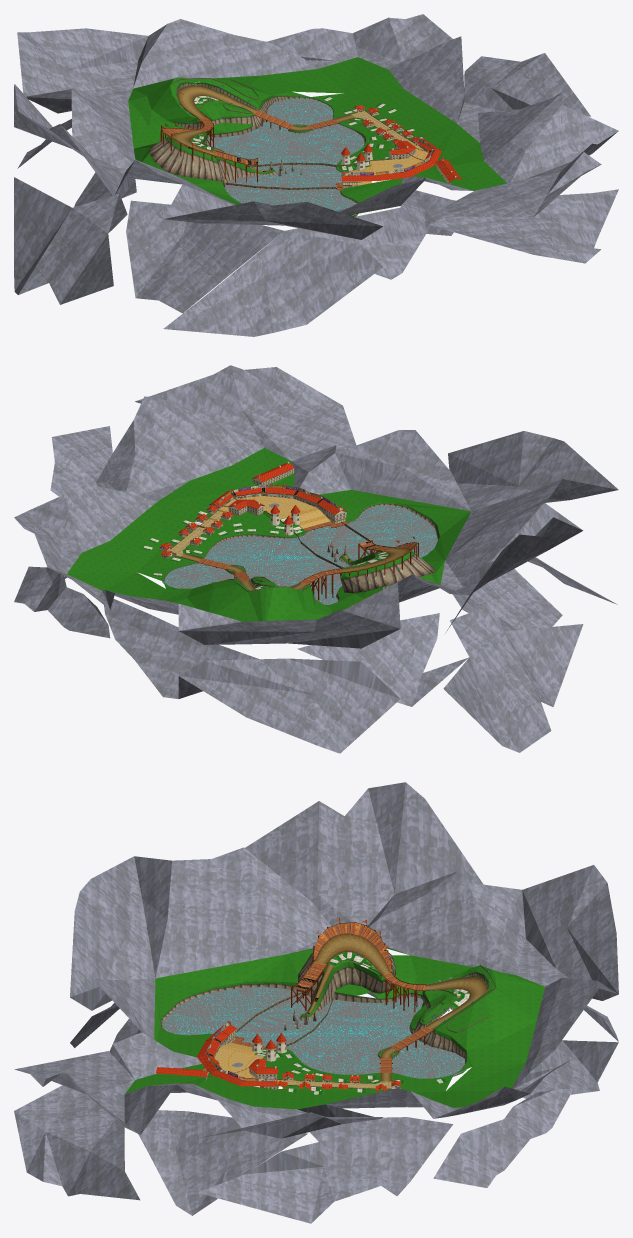
File: main.glb
The picture shows the model from 3 angles, top to bottom: view 1: azimuth 30°, elevation 25°; view 2: azimuth 150°, elevation 25°; view 3: azimuth 270°, elevation 25°; orthographic projection. The views are drawn at different scales.
Visible parts, largest first — view 1: SketchUp.1074, SketchUp.236, SketchUp.1077, SketchUp.1068, SketchUp.1079, SketchUp.460, SketchUp.1076, SketchUp.1071, SketchUp, SketchUp.773, SketchUp.428, SketchUp.776 (+1 smaller); view 2: SketchUp.1074, SketchUp.236, SketchUp.1070, SketchUp.1079, SketchUp.460, SketchUp.1073, SketchUp.1069, SketchUp.1068, SketchUp.1067, SketchUp.773, SketchUp, SketchUp.776 (+1 smaller); view 3: SketchUp.1074, SketchUp.236, SketchUp.460, SketchUp.1076, SketchUp.1078, SketchUp.1075, SketchUp.1067, SketchUp.1072, SketchUp.773, SketchUp, SketchUp.1073, SketchUp.430 (+3 smaller).
Part boxes in pixels (x1,y1,x2,y2): SketchUp.1074: (14, 14, 618, 239); SketchUp.236: (128, 57, 506, 190); SketchUp.1077: (163, 231, 382, 336); SketchUp.1068: (126, 200, 284, 313); SketchUp.1079: (14, 177, 127, 304); SketchUp.460: (207, 98, 364, 210); SketchUp.1076: (429, 189, 618, 263); SketchUp.1071: (285, 190, 455, 279); SketchUp: (148, 82, 365, 216); SketchUp.773: (134, 147, 402, 215); SketchUp.428: (177, 85, 257, 118); SketchUp.776: (336, 118, 396, 171); SketchUp.1074: (14, 365, 618, 648); SketchUp.236: (67, 448, 383, 621); SketchUp.1070: (179, 658, 400, 753); SketchUp.1079: (443, 604, 583, 752); SketchUp.460: (165, 505, 437, 604); SketchUp.1073: (104, 599, 259, 699); SketchUp.1069: (297, 613, 468, 706); SketchUp.1068: (453, 569, 562, 631); SketchUp.1067: (14, 566, 110, 638); SketchUp.773: (320, 489, 470, 584); SketchUp: (163, 502, 439, 605); SketchUp.776: (183, 511, 305, 557); SketchUp.1074: (14, 782, 618, 1138); SketchUp.236: (125, 955, 544, 1109); SketchUp.460: (162, 987, 464, 1078); SketchUp.1076: (14, 1085, 139, 1200); SketchUp.1078: (138, 1110, 307, 1215); SketchUp.1075: (198, 1136, 383, 1223); SketchUp.1067: (433, 1088, 573, 1187); SketchUp.1072: (309, 1117, 453, 1195); SketchUp.773: (154, 947, 406, 1057); SketchUp: (160, 922, 488, 1076); SketchUp.1073: (522, 1040, 618, 1098); SketchUp.430: (314, 933, 391, 974).
Size of the model in its own units: 13759 by 5456 by 12867.
17 materials, 17 textured.
